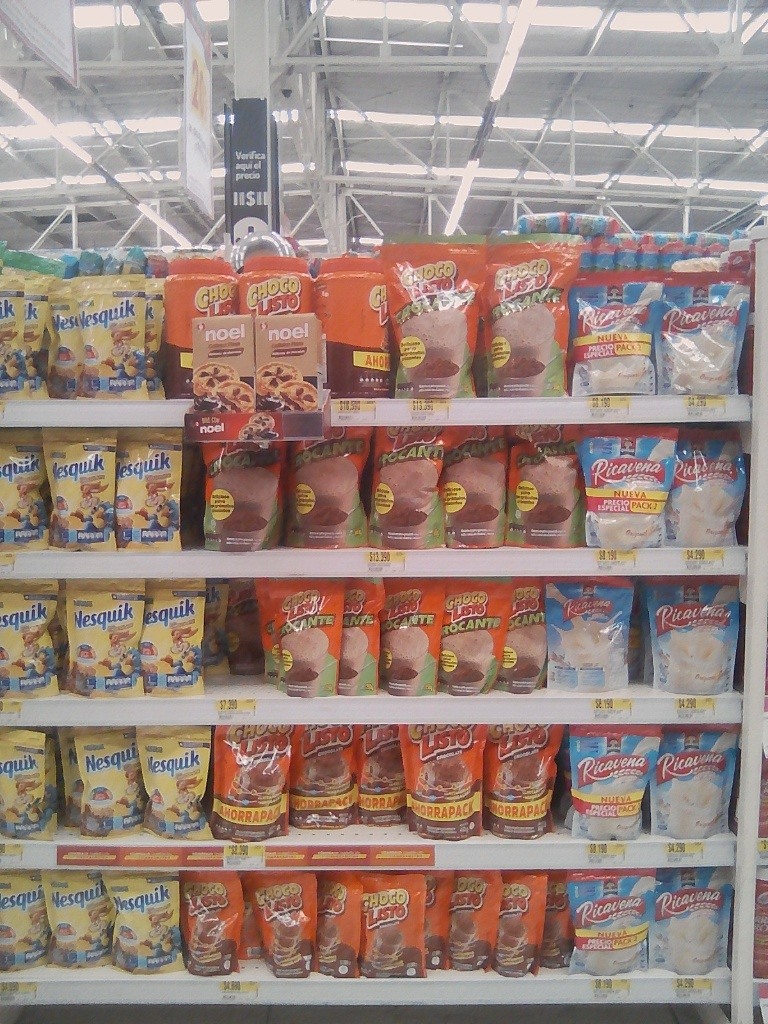COL0170102DYP50000: (380, 226, 487, 399)
COL0170103DYP44000: (211, 722, 288, 841)
COL0170103TRR00100: (164, 252, 237, 395)
COL0170303DYP20000: (1, 433, 52, 548)
